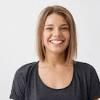Persons: (35, 7, 80, 64)
